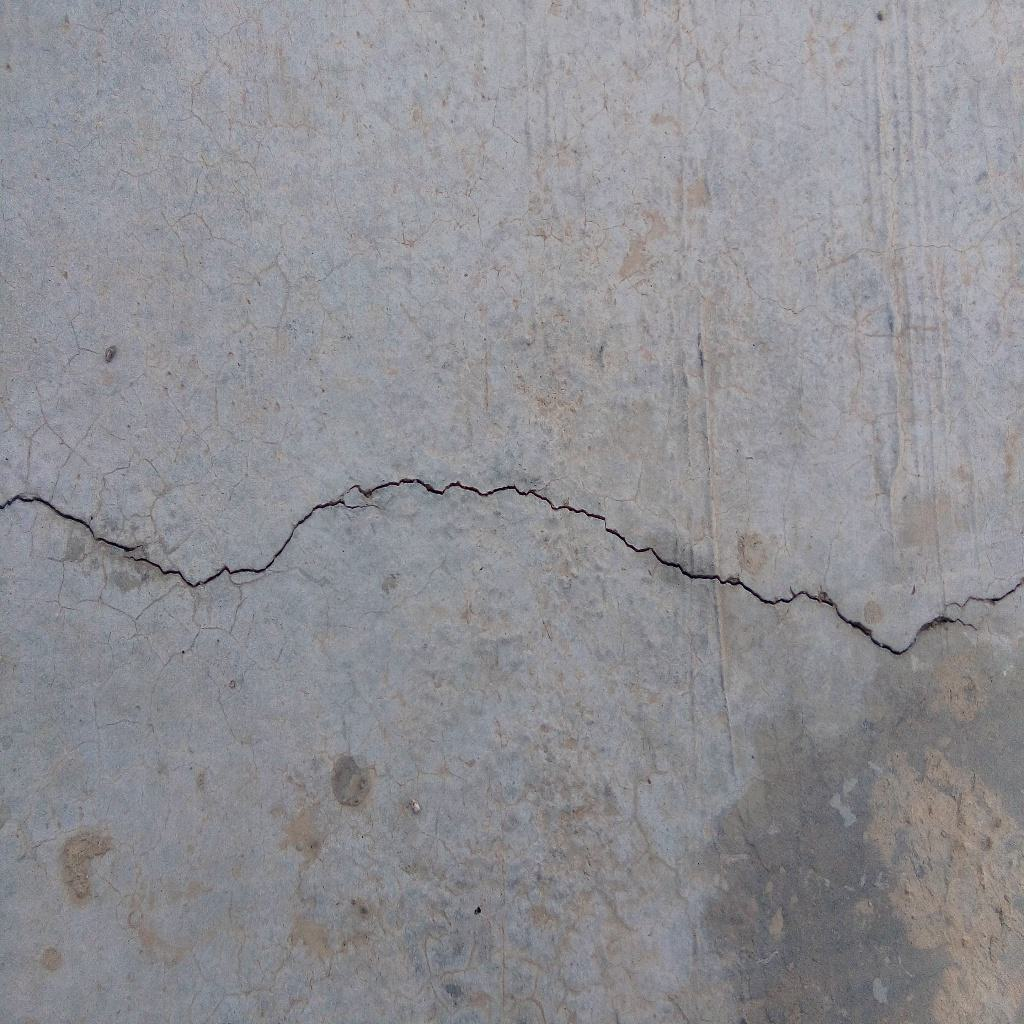Crack: (1, 475, 1024, 657)
